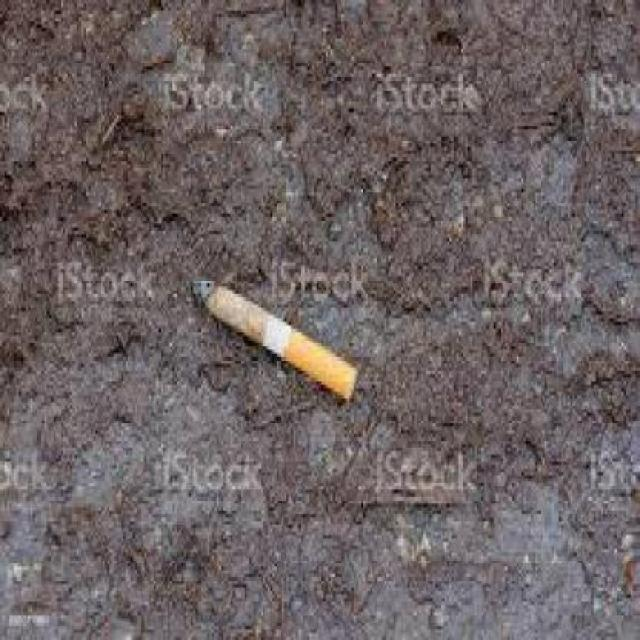cigarette: (177, 248, 363, 420)
